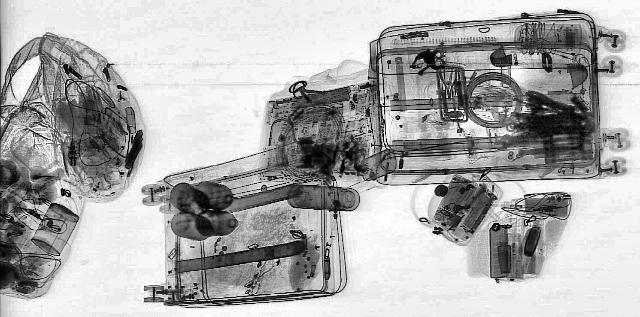Wrench: (496, 132, 564, 150)
